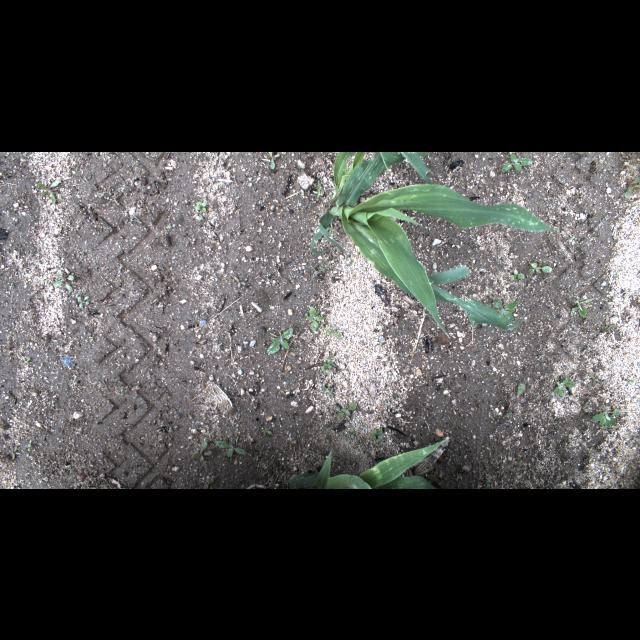crop: (310, 152, 558, 336), (287, 439, 448, 488)
weed: (589, 404, 621, 428), (266, 327, 294, 353), (38, 178, 62, 205), (501, 152, 532, 172), (215, 440, 247, 458), (304, 305, 326, 331), (494, 299, 516, 323), (553, 377, 575, 398), (570, 298, 592, 318), (192, 442, 212, 462), (52, 271, 74, 289), (624, 175, 640, 199), (527, 261, 553, 275), (311, 264, 333, 278), (338, 404, 357, 418), (322, 353, 334, 373), (588, 372, 602, 388), (370, 428, 384, 442), (195, 202, 207, 218), (600, 323, 618, 333), (77, 295, 91, 307), (268, 152, 278, 168), (4, 339, 12, 357), (10, 445, 20, 459), (260, 427, 274, 437), (235, 276, 245, 290), (511, 269, 525, 279), (517, 380, 525, 396), (325, 329, 341, 337), (316, 182, 324, 198), (322, 384, 332, 396), (572, 152, 588, 158), (204, 479, 213, 488), (347, 430, 357, 438), (456, 470, 462, 480), (26, 442, 32, 452), (503, 412, 513, 418), (518, 458, 524, 466), (25, 356, 31, 364), (486, 478, 490, 488), (8, 282, 14, 288), (628, 379, 636, 383)
